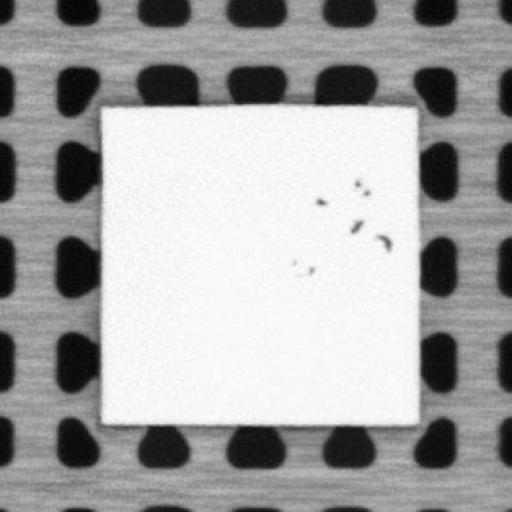DIE_INK: (371, 231, 392, 251), (345, 218, 367, 232), (304, 262, 318, 274), (359, 184, 371, 197), (313, 193, 324, 207), (350, 176, 362, 185)
